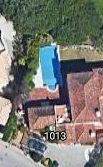pool: (39, 47, 62, 89)
